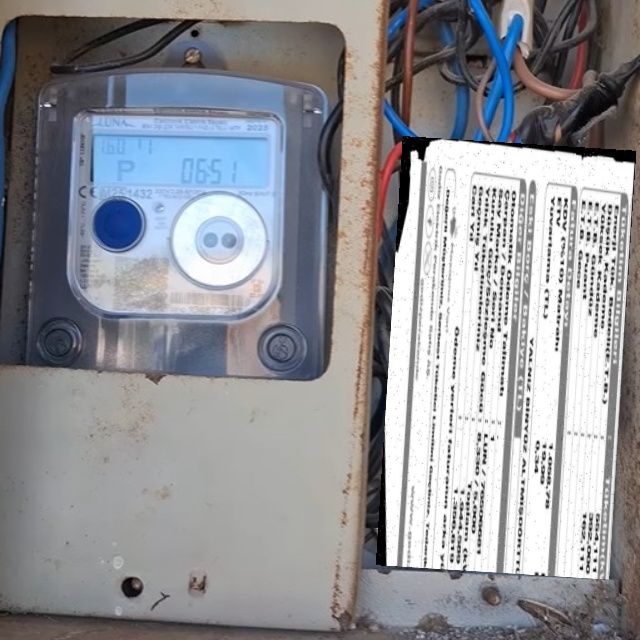electricity-bill: (376, 136, 636, 580)
